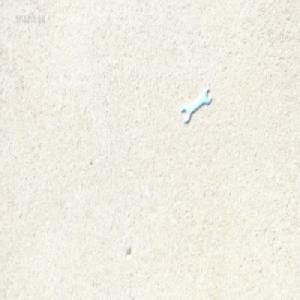Wrench: (181, 87, 211, 122)
